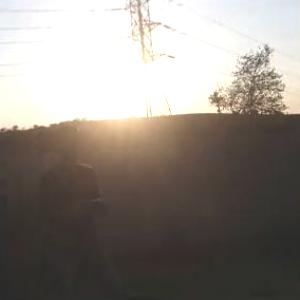follow: (38, 118, 112, 299)
